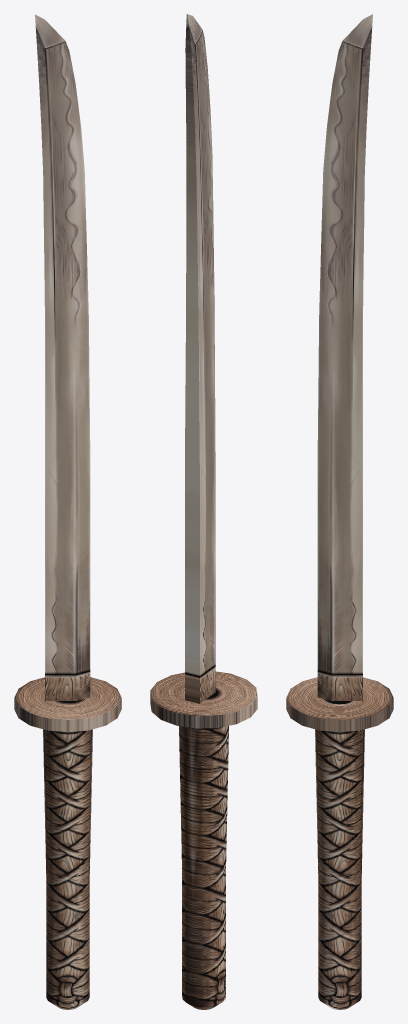
The model's file is Katana.fbx.
The picture shows the model from 3 angles, left to right: view 1: azimuth 90°, elevation 25°; view 2: azimuth 150°, elevation 25°; view 3: azimuth 270°, elevation 25°; orthographic projection.
Parts seen in each view (by area): view 1: katana blade, katana; view 2: katana blade, katana; view 3: katana blade, katana.
Boxes of the visible parts, left/top/right/bottom form: katana blade: left=35, top=14, right=90, bottom=700; katana: left=14, top=677, right=121, bottom=1009; katana blade: left=185, top=14, right=215, bottom=703; katana: left=150, top=671, right=257, bottom=1009; katana blade: left=317, top=14, right=372, bottom=700; katana: left=286, top=677, right=393, bottom=1009.
Size of the model in its own units: 26.94 by 26.94 by 275.
Materials: 2 (2 with a texture image).
